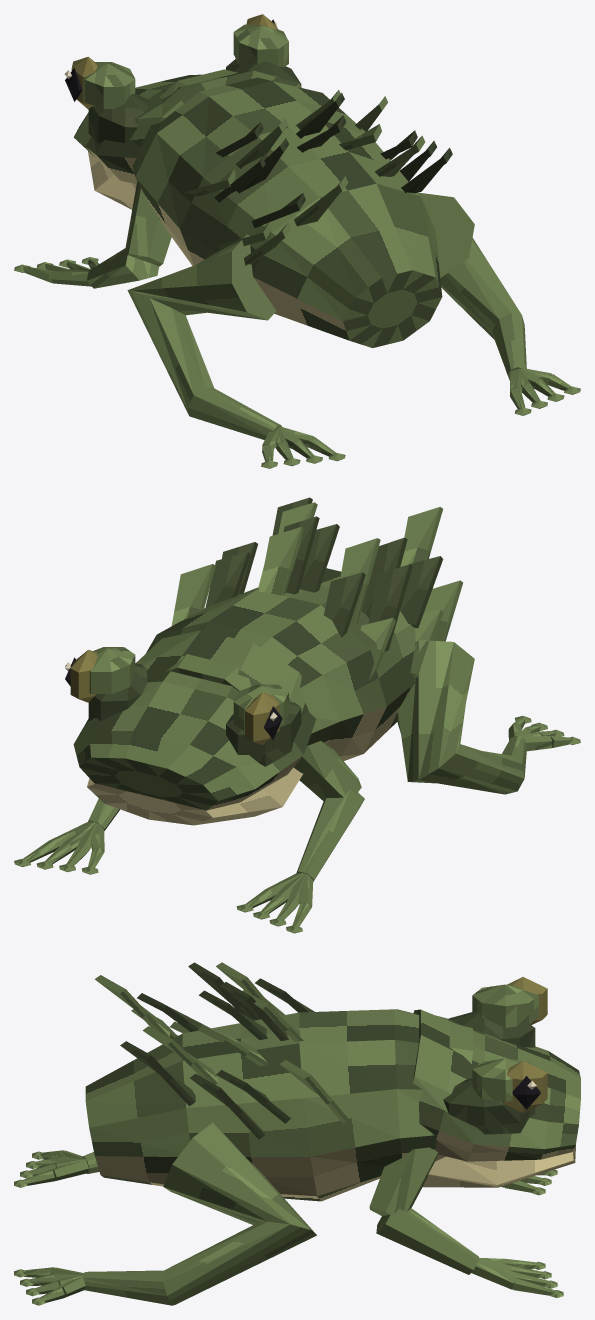
File: mon_shift_frog.glb
3 views of the same model, one above another, from view 1: azimuth 30°, elevation 25°; view 2: azimuth 150°, elevation 25°; view 3: azimuth 270°, elevation 25° (orthographic).
Visible parts, largest first — view 1: closed_body; view 2: closed_body; view 3: closed_body.
Boxes of the visible parts, left/top/right/bottom form: closed_body: left=14, top=14, right=580, bottom=468; closed_body: left=14, top=497, right=580, bottom=933; closed_body: left=14, top=962, right=580, bottom=1305.
Size of the model in its own units: 0.1153 by 0.0846 by 0.17.
1 material, 1 textured.
